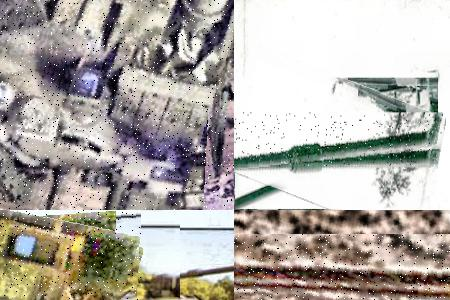tanks: (1, 1, 235, 211), (1, 211, 142, 300), (235, 114, 444, 167), (235, 267, 450, 300), (111, 267, 235, 300), (247, 196, 349, 211)
